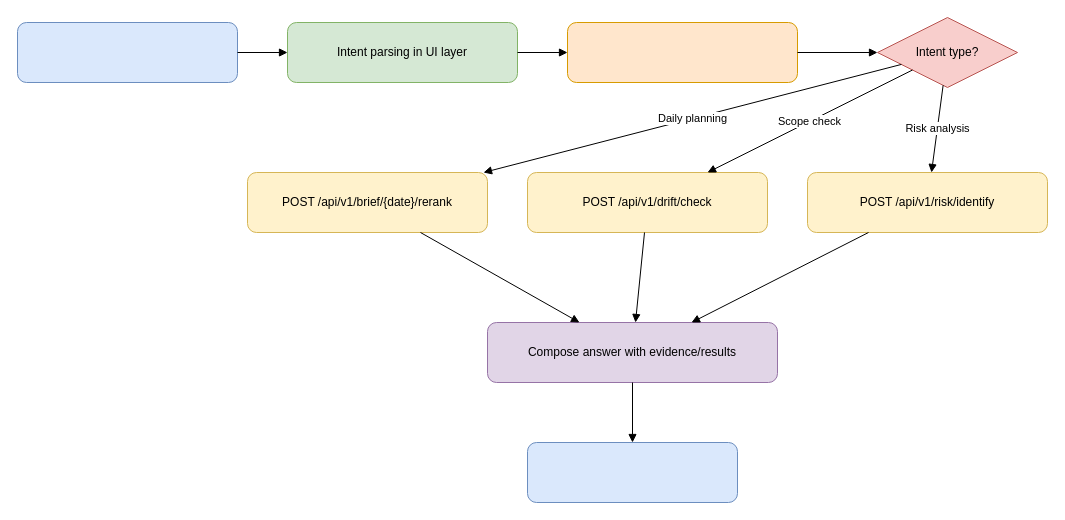
This 1065x520 diagram has some shape labels left out. Each missing label, with the centre of its shape:
"POST /api/v1/ingest/text" belongs at point (682, 52).
"Return chatbot response" belongs at point (632, 472).
"User asks in Chatbot" belongs at point (127, 52).
